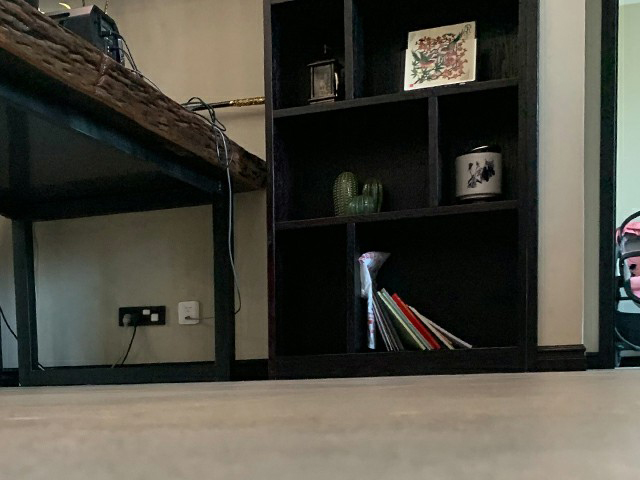cabinet: (261, 62, 543, 380)
table: (1, 1, 267, 388)
wire: (40, 308, 150, 382)
